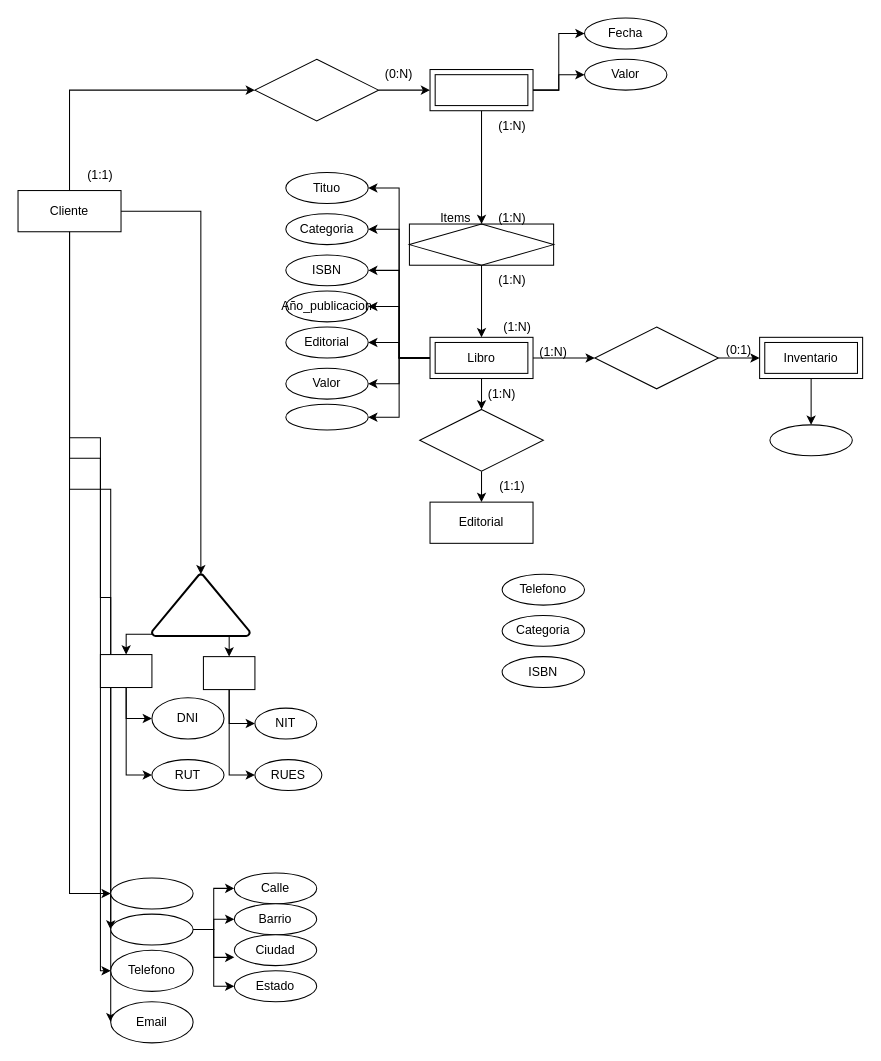
The diagram is 881 pixels wide and 1061 high, and some of its shapes have lost their labels. Here are the shapes that lost their labels. From the top down, the box of each, then its label:
(254, 58, 379, 121): Realiza
(429, 68, 533, 111): Pedido
(408, 223, 554, 265): Contiene
(594, 326, 718, 389): Existe
(285, 403, 368, 430): Autoria
(419, 408, 543, 471): Pertenece
(769, 424, 852, 456): Cantidad
(150, 573, 250, 637): ID
(99, 654, 152, 688): PN
(202, 656, 255, 690): PJ
(110, 877, 193, 909): Nombre
(110, 913, 193, 945): Direccion
